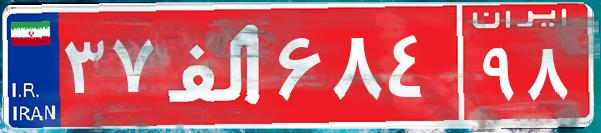3: (57, 26, 110, 107)
4: (385, 28, 445, 110)
6: (273, 28, 330, 110)
7: (110, 28, 158, 105)
8: (330, 28, 385, 110), (525, 38, 570, 115)
9: (475, 38, 525, 113)
الف: (158, 15, 273, 115)
